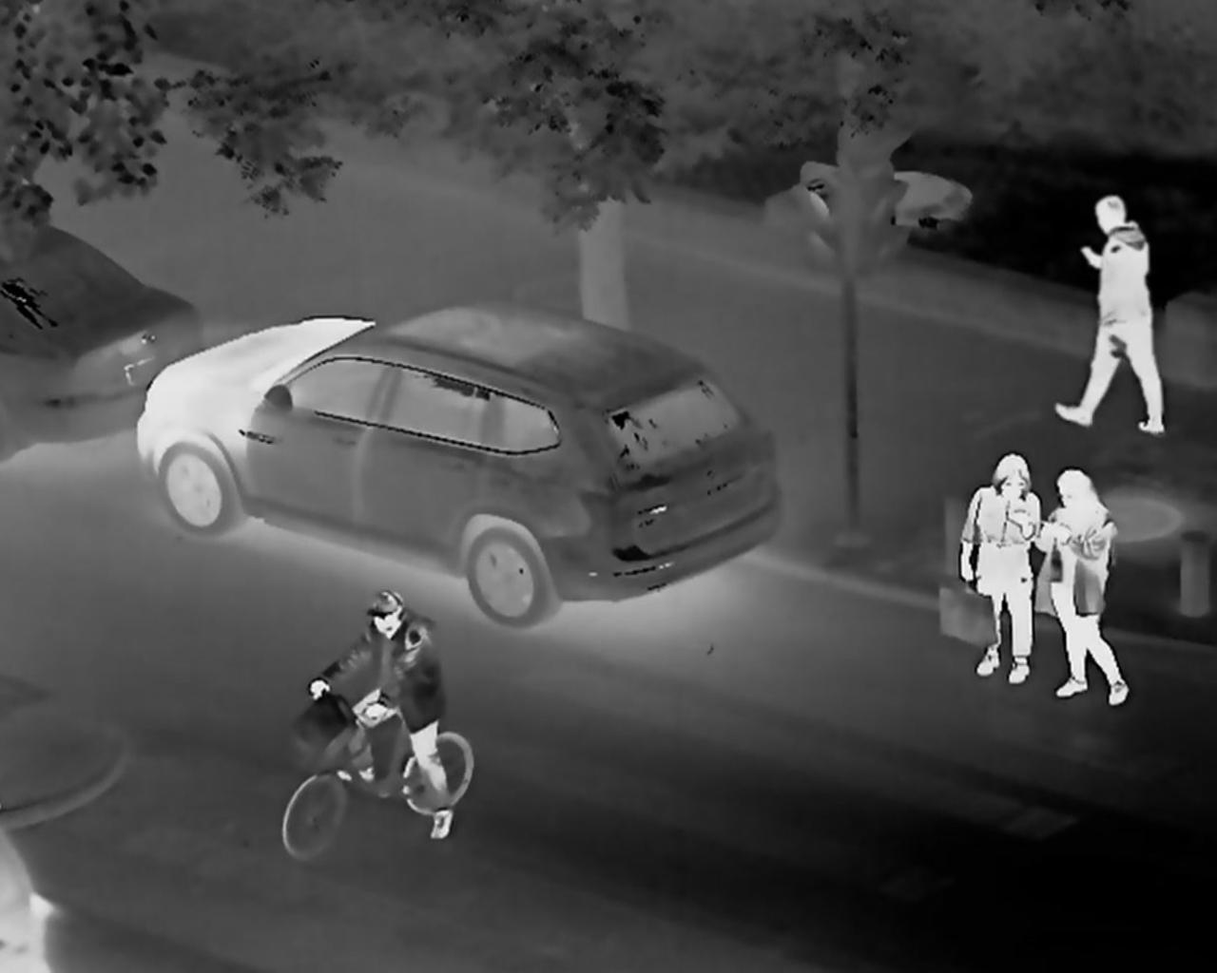person: (329, 585, 480, 814), (1060, 181, 1160, 403), (938, 450, 1033, 658), (1056, 466, 1111, 697)
